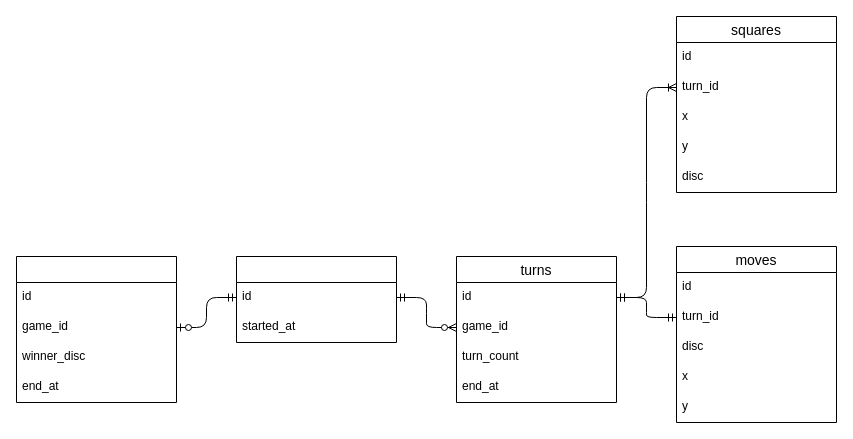
Image size: 853x439. Some labels were removed from this diagram. The box of each missing label's shape, as (x1, y1, x2, y2) in pixels:
game_results: (16, 256, 176, 402)
games: (236, 256, 396, 342)
